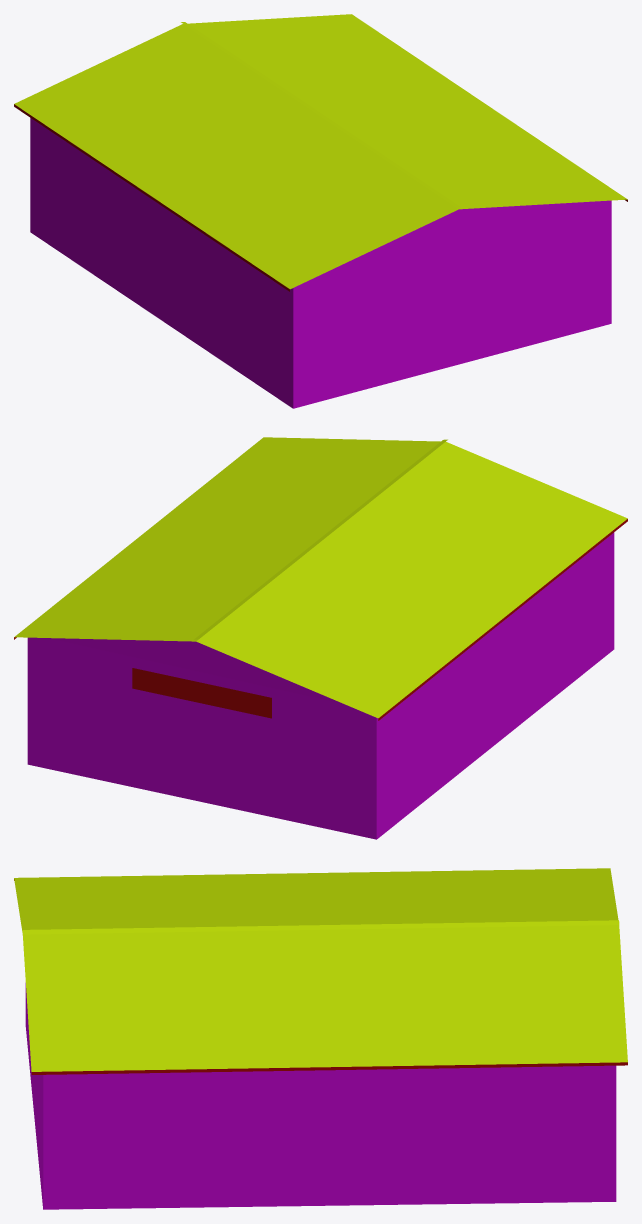
The model's file is scl_129.glb.
3 renders of one model, top to bottom at view 1: azimuth 30°, elevation 25°; view 2: azimuth 150°, elevation 25°; view 3: azimuth 270°, elevation 25°, orthographic. The views are drawn at different scales.
Visible parts, largest first — view 1: scl_129; view 2: scl_129; view 3: scl_129.
Part boxes in pixels (x1=…): scl_129: x1=14, y1=14, x2=627, y2=408; scl_129: x1=14, y1=437, x2=627, y2=839; scl_129: x1=14, y1=868, x2=627, y2=1209.
Size of the model in its own units: 17.03 by 7.31 by 21.69.
